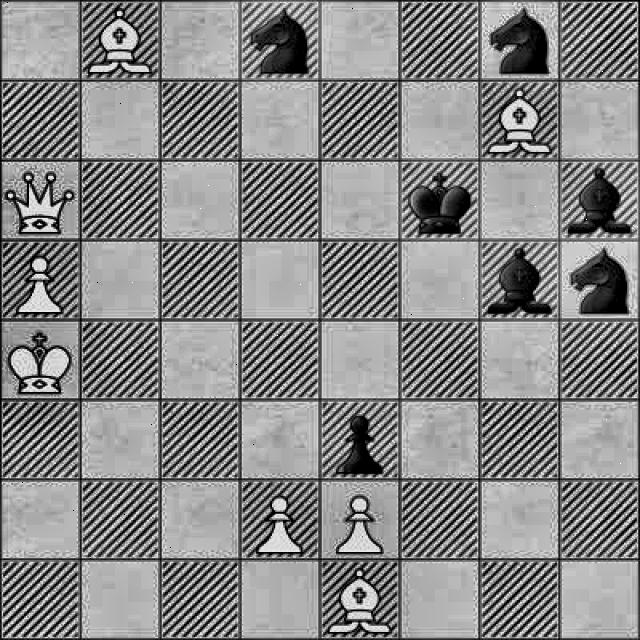Black Knight: (246, 4, 314, 80), (486, 6, 556, 78), (568, 247, 634, 321)
black bishop: (486, 243, 556, 319), (566, 168, 634, 238)
black king: (402, 167, 479, 240)
black pawn: (324, 404, 396, 477)
white bishop: (84, 2, 158, 78), (327, 563, 392, 640), (489, 88, 554, 160)
white king: (6, 328, 78, 398)
white pawn: (244, 488, 317, 560), (333, 485, 391, 556), (10, 244, 64, 316)
white queen: (4, 164, 74, 233)
